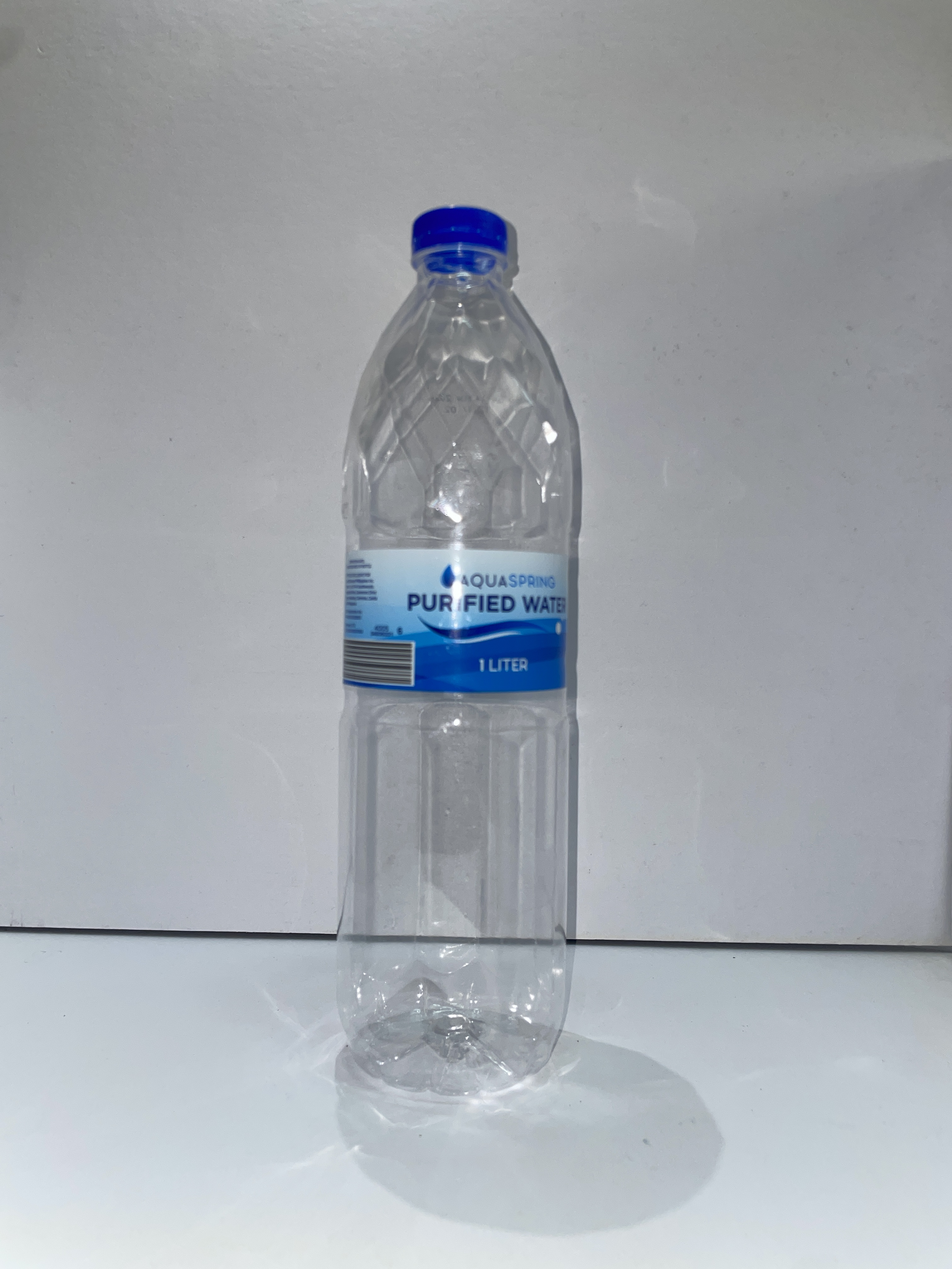aquaspring 1000ml: (338, 207, 579, 1095)
